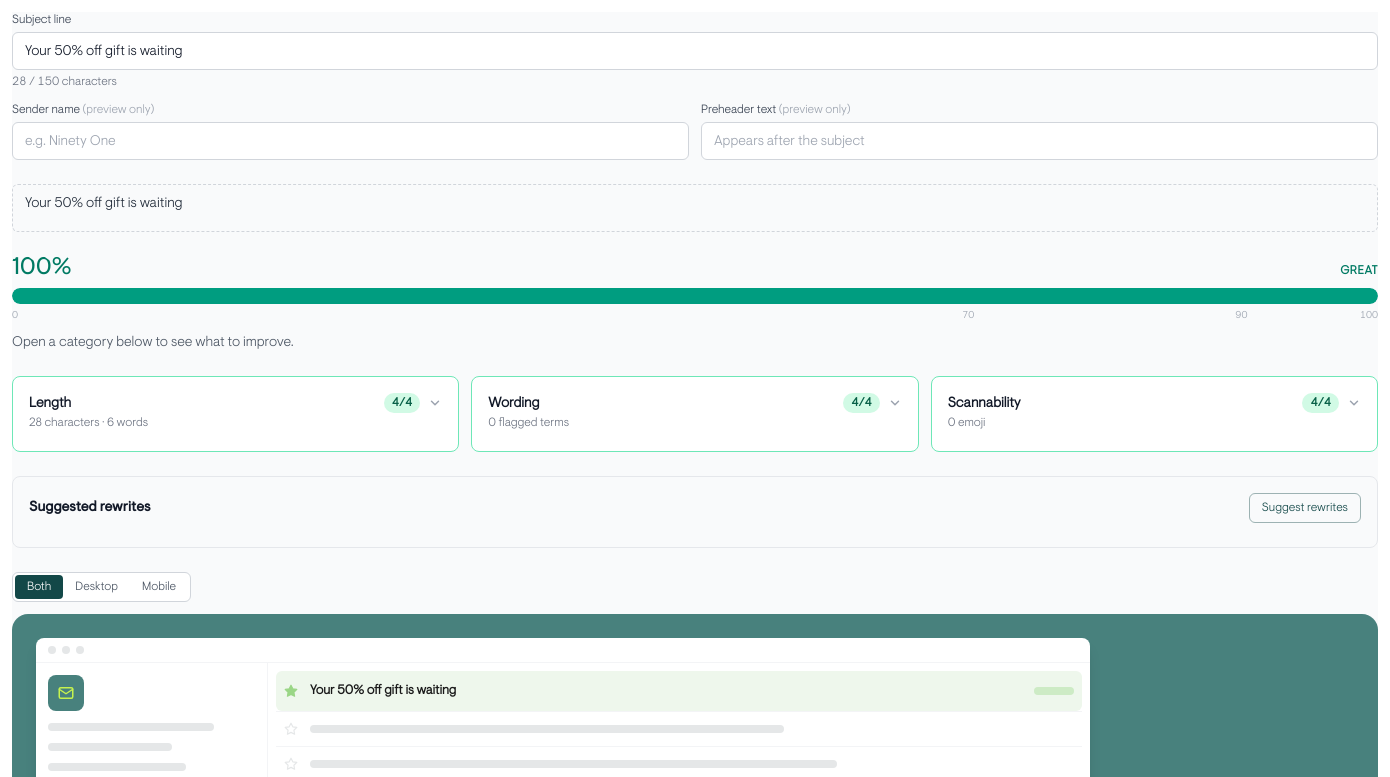
it: suggestions on › says so when there is no better rewrite
Click the button "Suggest rewrites".
click(1305, 508)  # box x1=1249 y1=493 x2=1361 y2=523
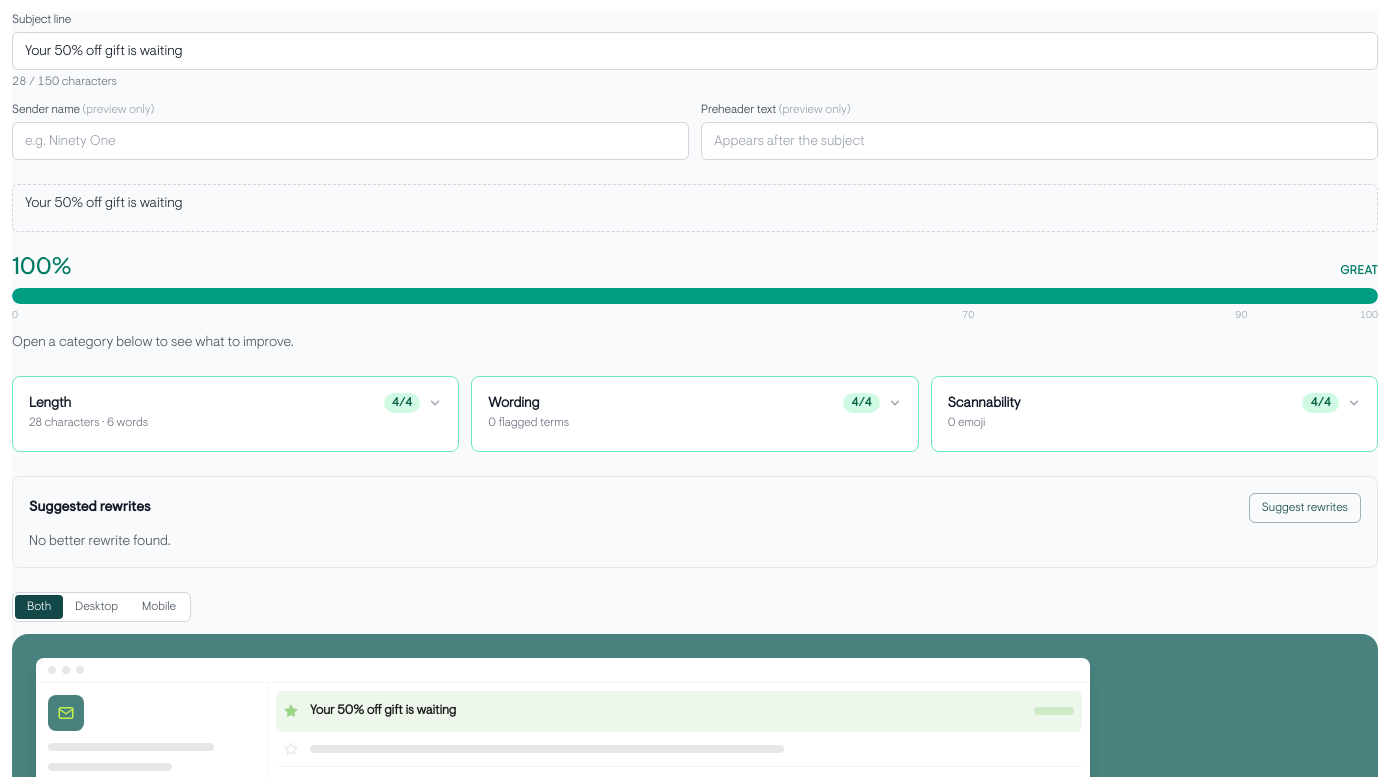
Check: the text "No better rewrite found." is shown, box x1=29 y1=532 x2=171 y2=549
